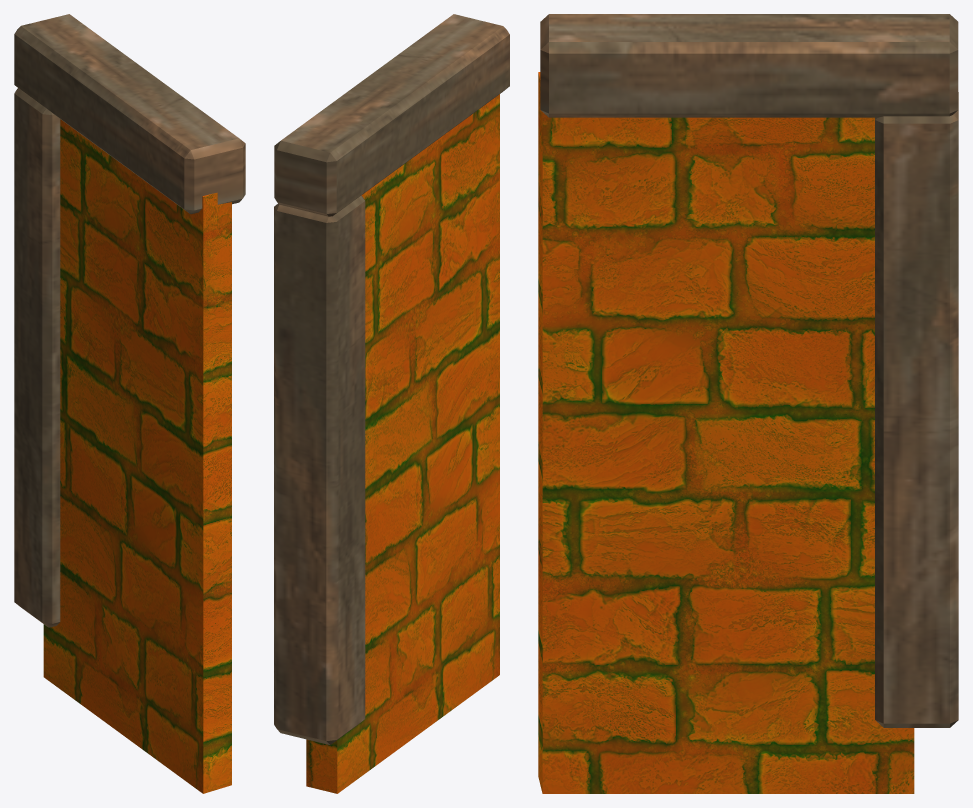
Rendered from SM_wall_23.fbx.
3 views of the same model, side by side, from view 1: azimuth 30°, elevation 25°; view 2: azimuth 150°, elevation 25°; view 3: azimuth 270°, elevation 25° (orthographic). The views are drawn at different scales.
Visible parts, largest first — view 1: SM_wall_23_LOD0; view 2: SM_wall_23_LOD0; view 3: SM_wall_23_LOD0.
Part boxes in pixels (x1,y1,x2,y2): SM_wall_23_LOD0: (14,14,245,793); SM_wall_23_LOD0: (274,14,509,793); SM_wall_23_LOD0: (538,14,958,793).
Size of the model in its own units: 20 by 101 by 200.
Materials: 2 (2 with a texture image).
